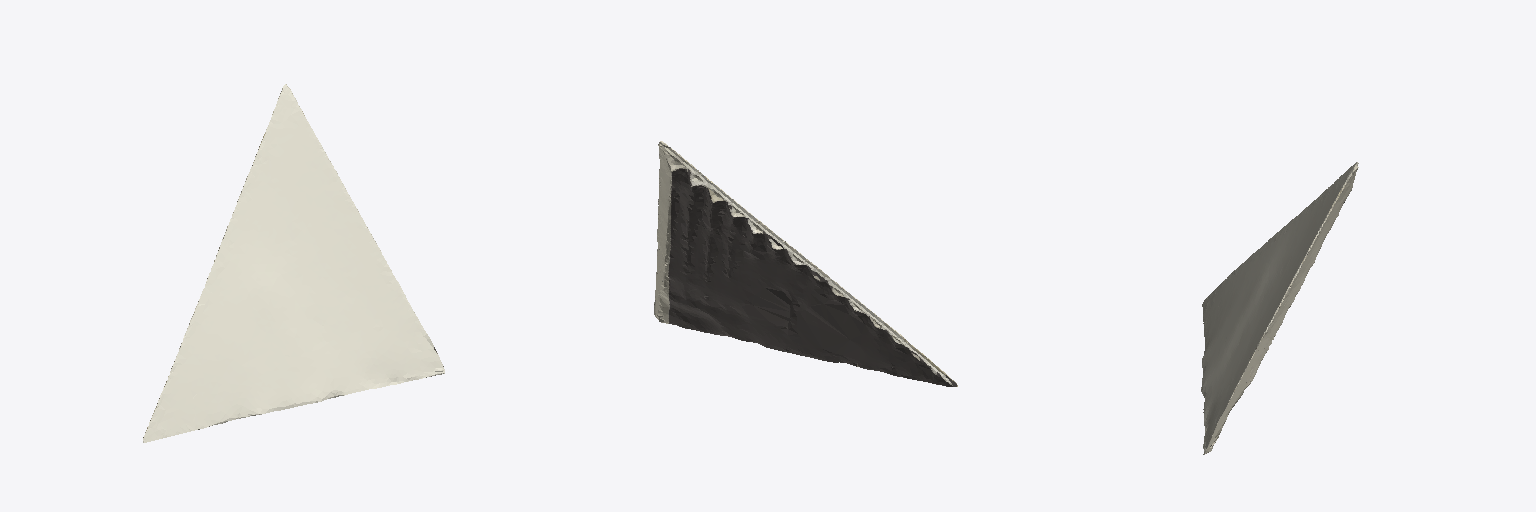
3 views of the same model, side by side, from view 1: azimuth 30°, elevation 25°; view 2: azimuth 150°, elevation 25°; view 3: azimuth 270°, elevation 25° (orthographic).
Visible parts, largest first — view 1: object_1; view 2: object_1; view 3: object_1.
Part boxes in pixels (bbox=[...]): object_1: bbox=[143, 84, 444, 442]; object_1: bbox=[654, 141, 957, 386]; object_1: bbox=[1201, 162, 1358, 454].
Size of the model in its own units: 14.91 by 11.94 by 6.71.
1 materials, 1 textured.